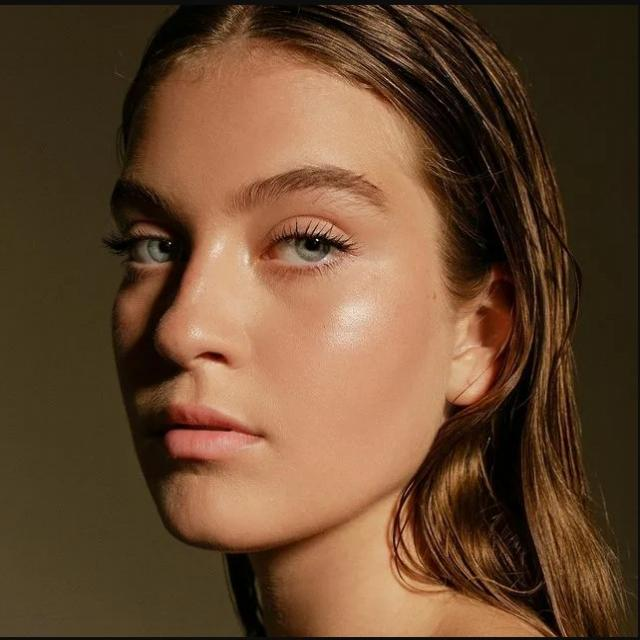earlobe: (444, 347, 491, 407)
eye: (260, 232, 353, 271), (122, 230, 180, 266)
nose: (146, 340, 236, 408)
wholeear: (444, 262, 524, 406)
